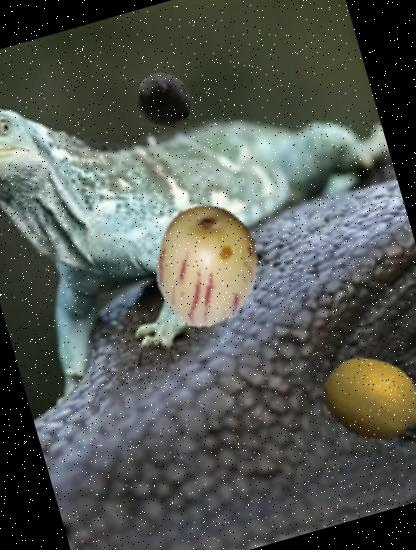Lemon: (310, 336, 416, 461)
Pepino: (134, 190, 280, 337)
Plum: (128, 64, 200, 136)
